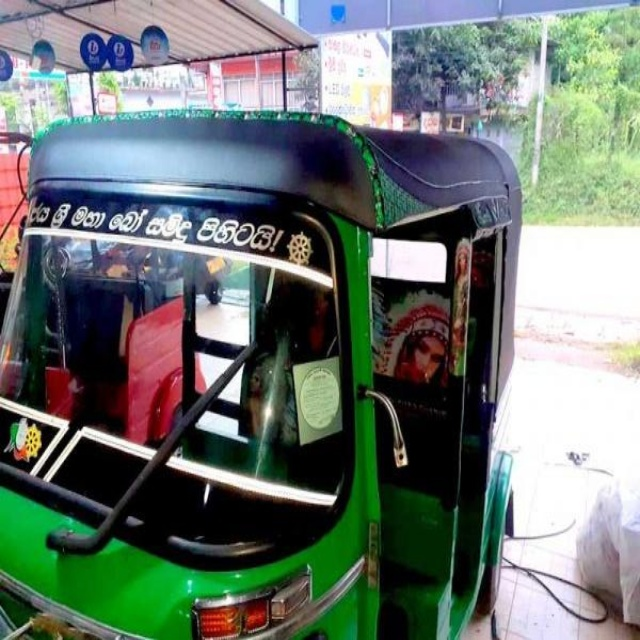Motorcycle: (1, 110, 525, 640)
